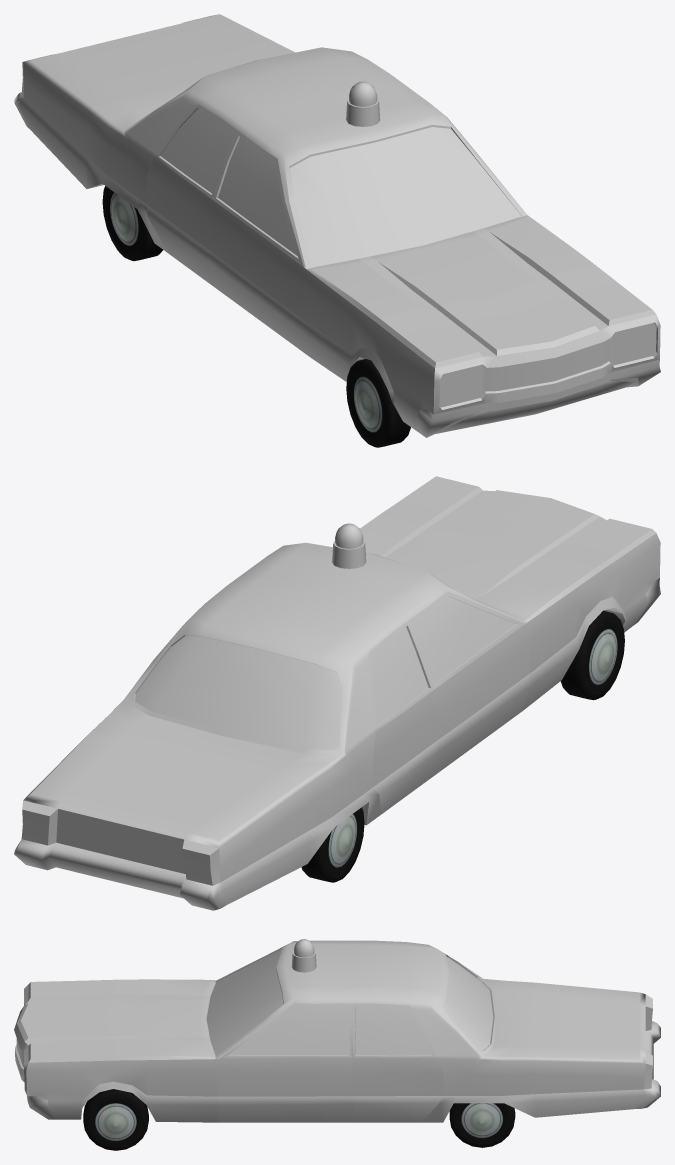
The model's file is PoliceCar.fbx.
3 views of the same model, one above another, from view 1: azimuth 30°, elevation 25°; view 2: azimuth 150°, elevation 25°; view 3: azimuth 270°, elevation 25° (orthographic). The views are drawn at different scales.
Visible parts, largest first — view 1: PoliceCar, Wheel_RF, Wheel_RB; view 2: PoliceCar, Wheel_RF, Wheel_RB; view 3: PoliceCar, Wheel_LF, Wheel_LB.
Part boxes in pixels (x1,y1,x2,y2): PoliceCar: [14, 14, 660, 437]; Wheel_RF: [346, 359, 410, 447]; Wheel_RB: [102, 186, 162, 261]; PoliceCar: [14, 476, 660, 910]; Wheel_RF: [560, 611, 624, 700]; Wheel_RB: [301, 807, 364, 882]; PoliceCar: [14, 939, 660, 1122]; Wheel_LF: [83, 1089, 148, 1150]; Wheel_LB: [449, 1103, 515, 1147].
Size of the model in its own units: 6.25 by 5.8 by 19.7.
